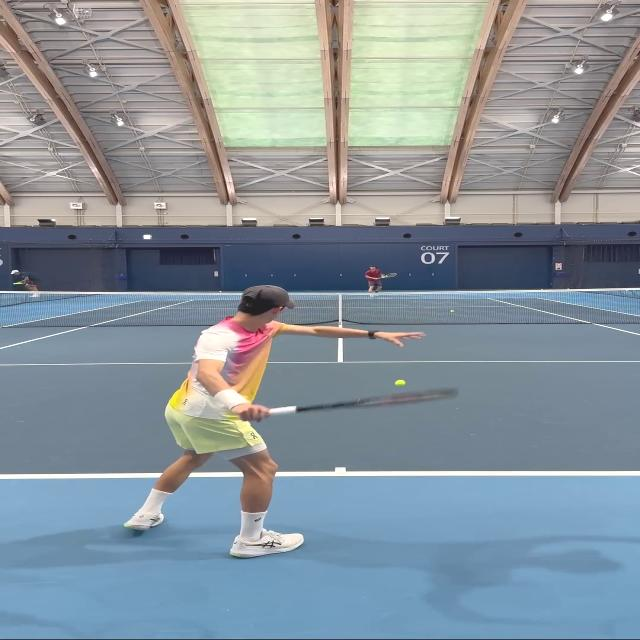tennis_ball: (396, 380, 405, 386)
